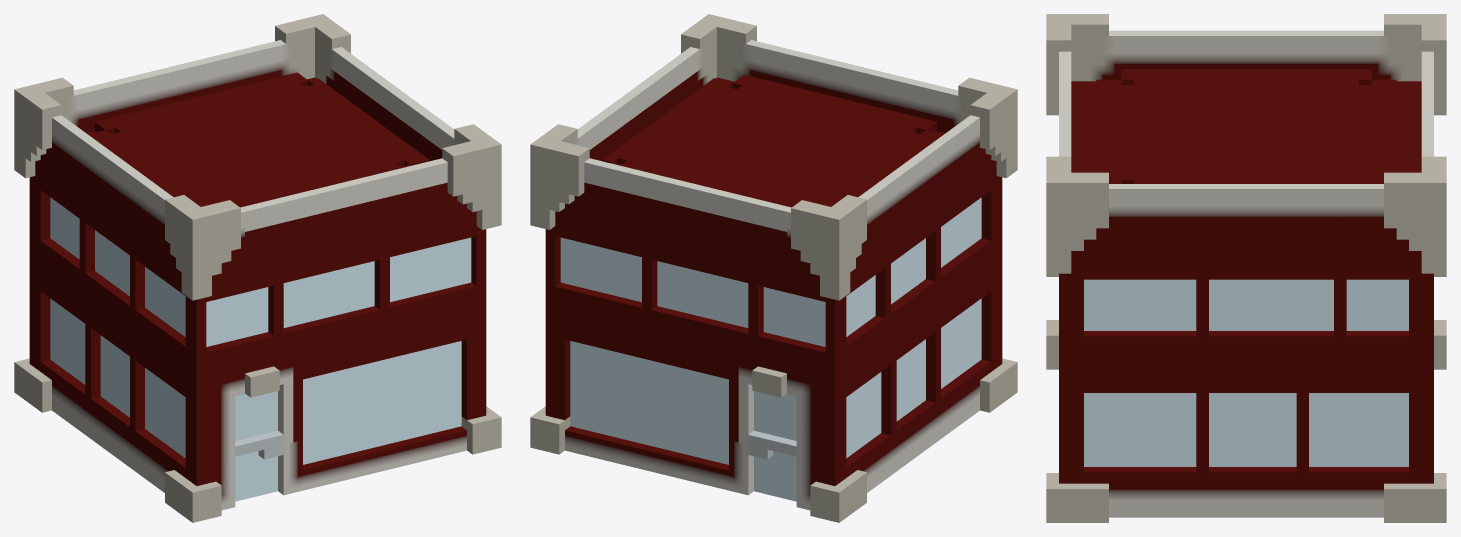
File: Building1.dae
3 views of the same model, side by side, from view 1: azimuth 30°, elevation 25°; view 2: azimuth 150°, elevation 25°; view 3: azimuth 270°, elevation 25° (orthographic). The views are drawn at different scales.
Parts seen in each view (by area): view 1: Building1; view 2: Building1; view 3: Building1.
Boxes of the visible parts, <box> form: Building1: <box>14,14,501,522</box>; Building1: <box>530,14,1017,522</box>; Building1: <box>1046,14,1446,522</box>.
Bounding box in the file's own units: 32 × 30 × 32.
1 material, 1 textured.
